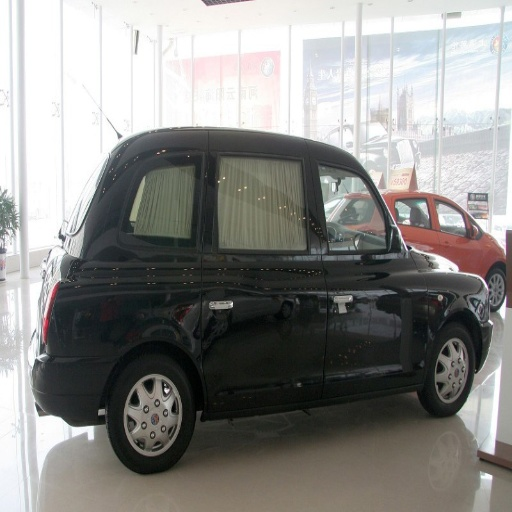back_glass: (91, 157, 175, 230)
trunk: (47, 267, 199, 407)
